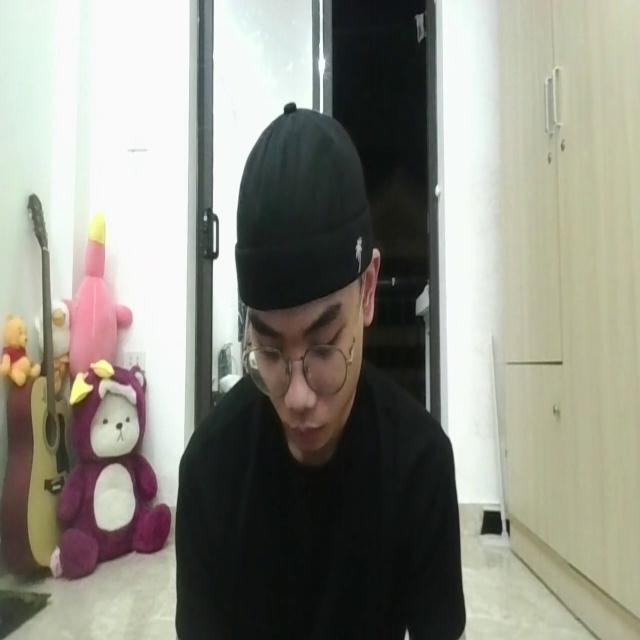student: (175, 94, 465, 640)
